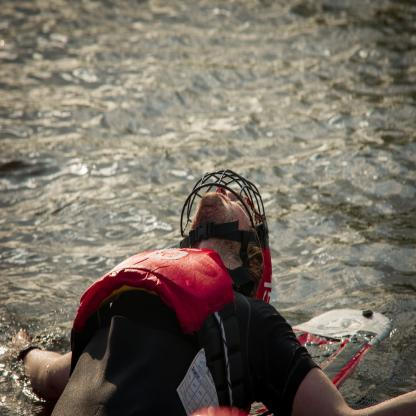Helmet: (174, 170, 275, 297)
